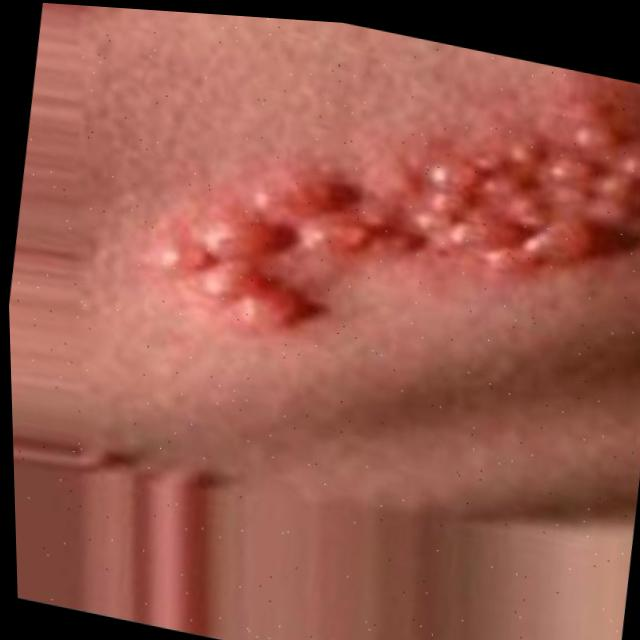Shingles: (139, 14, 640, 435)
